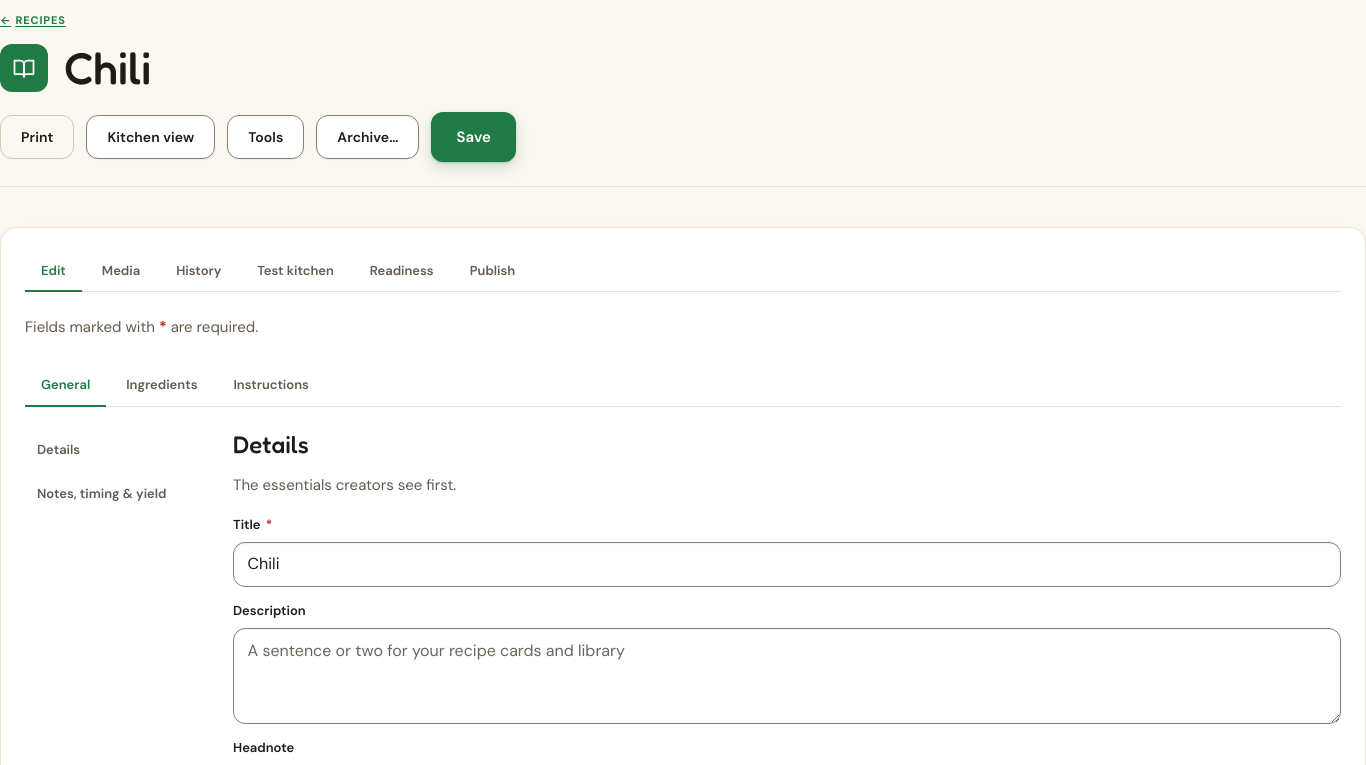
it: RecipeEditorComponent › layout and information architecture › splits the form into three tabs, General first, with the other two panels still unmounted
The image size is (1366, 765).
Click the tab "Instructions" at [271, 387], box top-left (217, 367), bottom-right (325, 407)
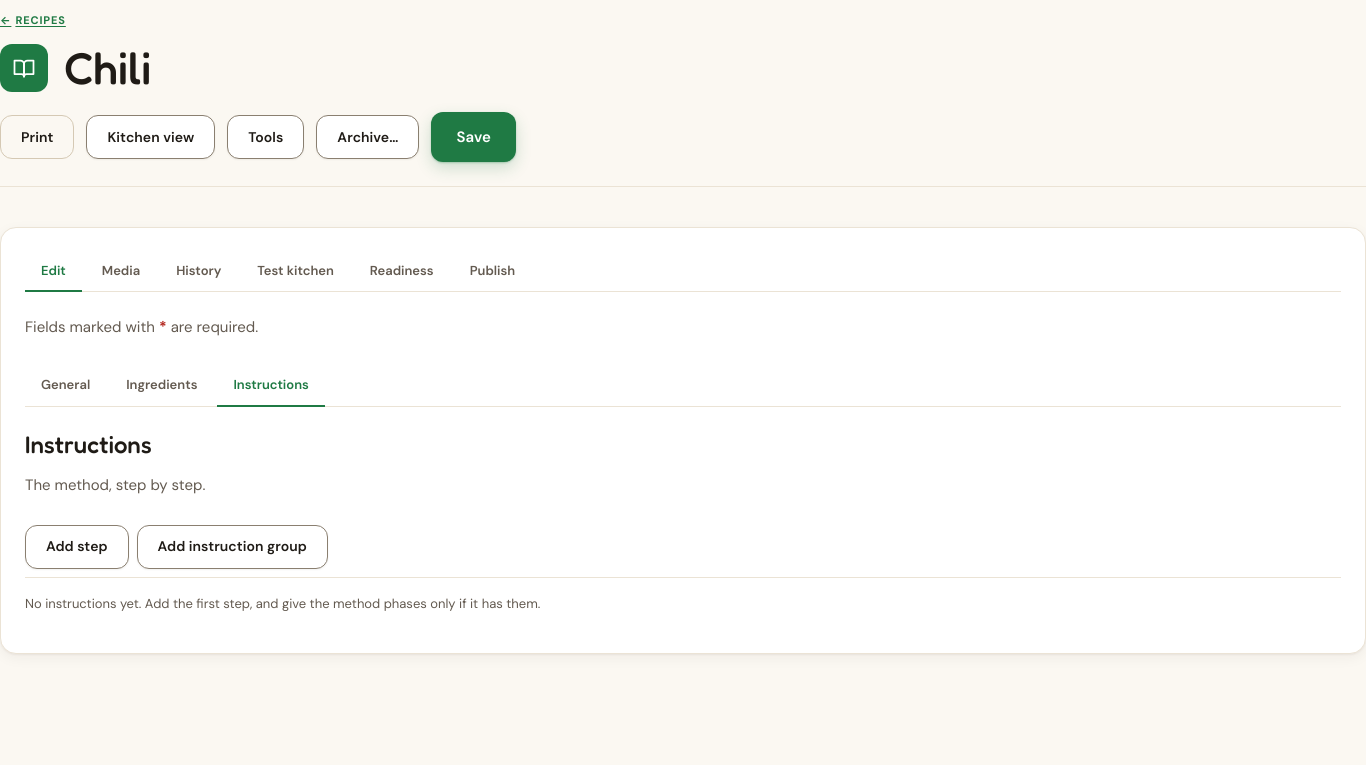
Result: the element with id "section-instructions" is shown at top-left (25, 431), bottom-right (1341, 629)
